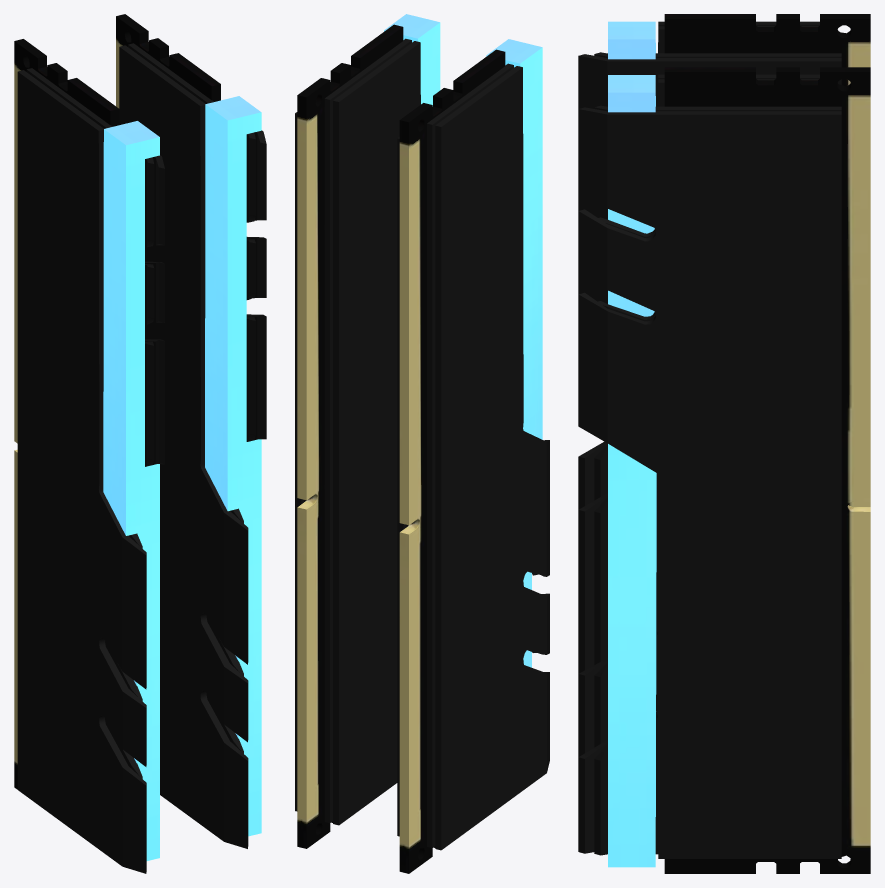
Rendered from ram.glb.
3 renders of one model, left to right at view 1: azimuth 30°, elevation 25°; view 2: azimuth 150°, elevation 25°; view 3: azimuth 270°, elevation 25°, orthographic. The views are drawn at different scales.
Visible parts, largest first — view 1: pCube920_Ram2M_0, pCube911_RGBM_0, pCube910_Ram4M_0, pCube902_Ram3M_0; view 2: pCube920_Ram2M_0, pCube902_Ram3M_0, pCube911_RGBM_0, pCube910_Ram4M_0; view 3: pCube910_Ram4M_0, pCube902_Ram3M_0, pCube911_RGBM_0, pCube920_Ram2M_0.
Boxes of the visible parts, left/top/right/bottom form: pCube920_Ram2M_0: left=17, top=43, right=248, bottom=873; pCube911_RGBM_0: left=103, top=96, right=261, bottom=860; pCube910_Ram4M_0: left=145, top=130, right=266, bottom=466; pCube902_Ram3M_0: left=14, top=14, right=220, bottom=789; pCube920_Ram2M_0: left=324, top=38, right=549, bottom=850; pCube902_Ram3M_0: left=297, top=24, right=505, bottom=873; pCube911_RGBM_0: left=384, top=14, right=542, bottom=667; pCube910_Ram4M_0: left=295, top=112, right=408, bottom=836; pCube910_Ram4M_0: left=578, top=52, right=841, bottom=858; pCube902_Ram3M_0: left=664, top=14, right=870, bottom=873; pCube911_RGBM_0: left=608, top=21, right=656, bottom=867; pCube920_Ram2M_0: left=578, top=21, right=819, bottom=855.
Bounding box in the file's own units: 2.66 × 13.45 × 4.44.
4 materials, 2 textured.
